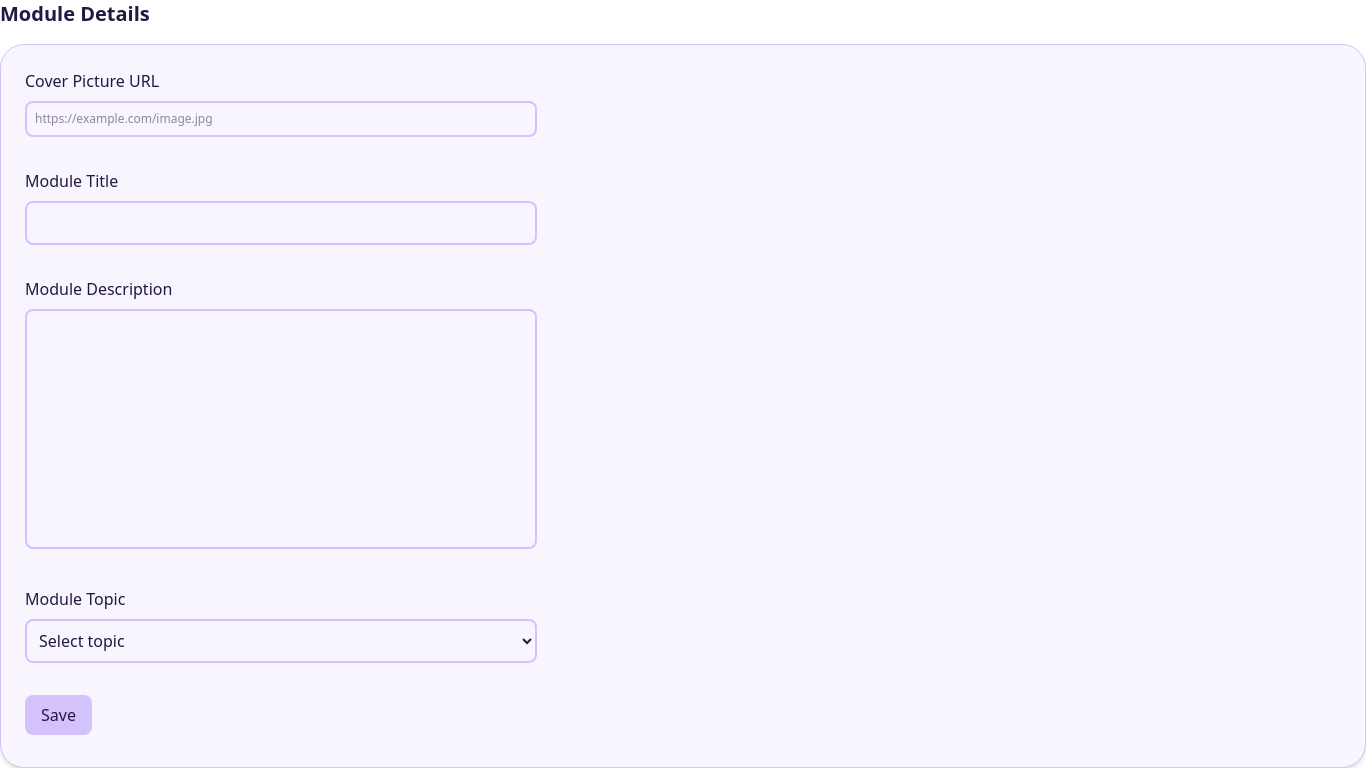
it: CreateModuleForm › shows an error banner when image is not renderable and user tries to save
The image size is (1366, 768).
Type "not-a-valid-url" into the field labelled "Cover Picture URL".
click(281, 119); type("not-a-valid-url")  # box [25,101,537,137]
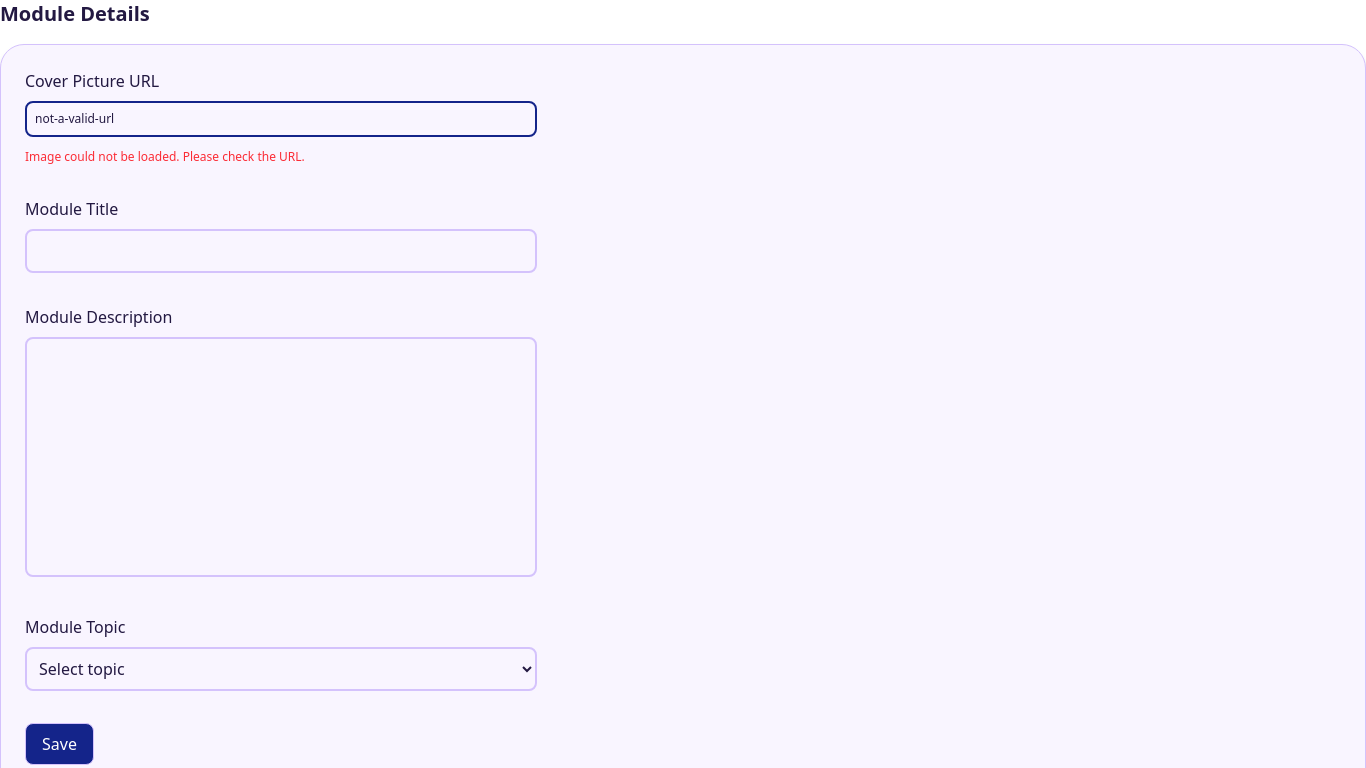
# Click Save to trigger formErrors rendering
Click the button "Save".
click(59, 744)  # box [25,723,94,765]
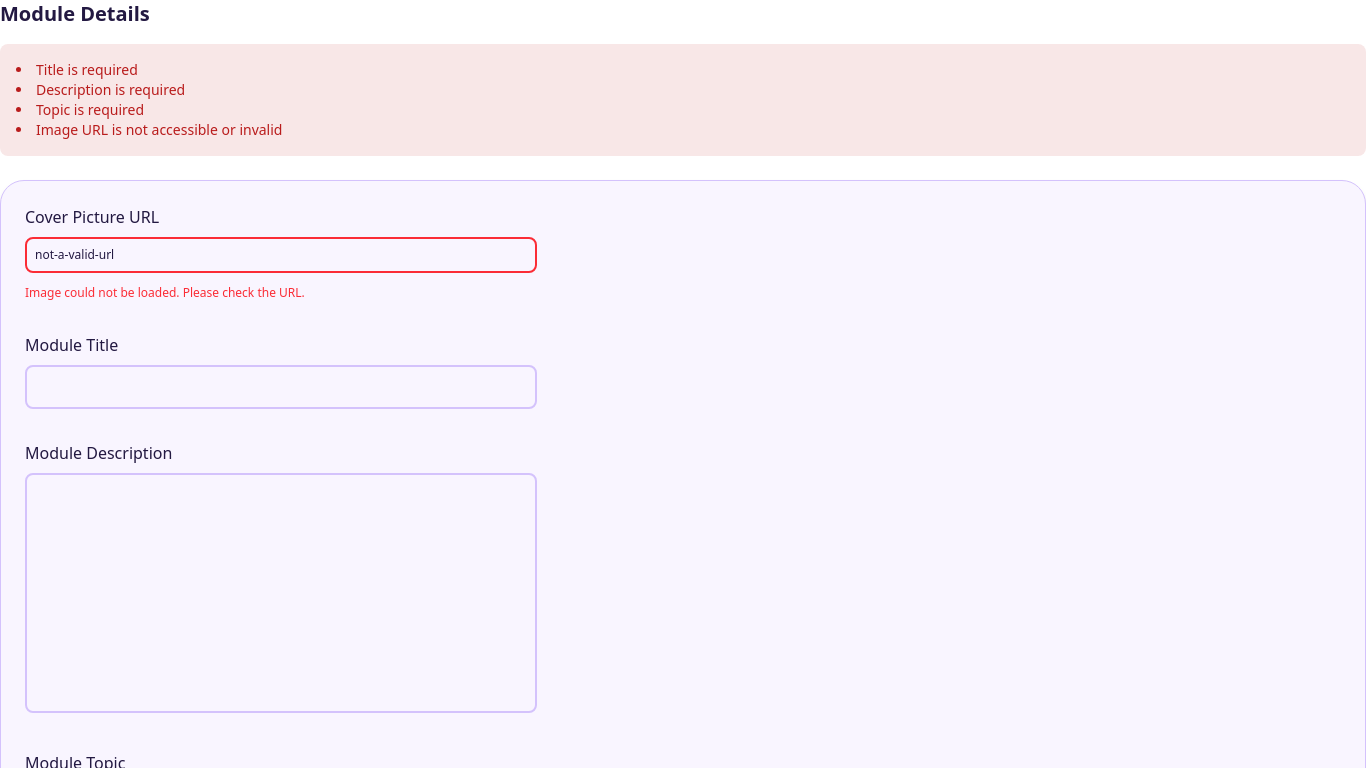
Now the list item "Image URL is not accessible or invalid" is shown, box [36,120,282,139]
